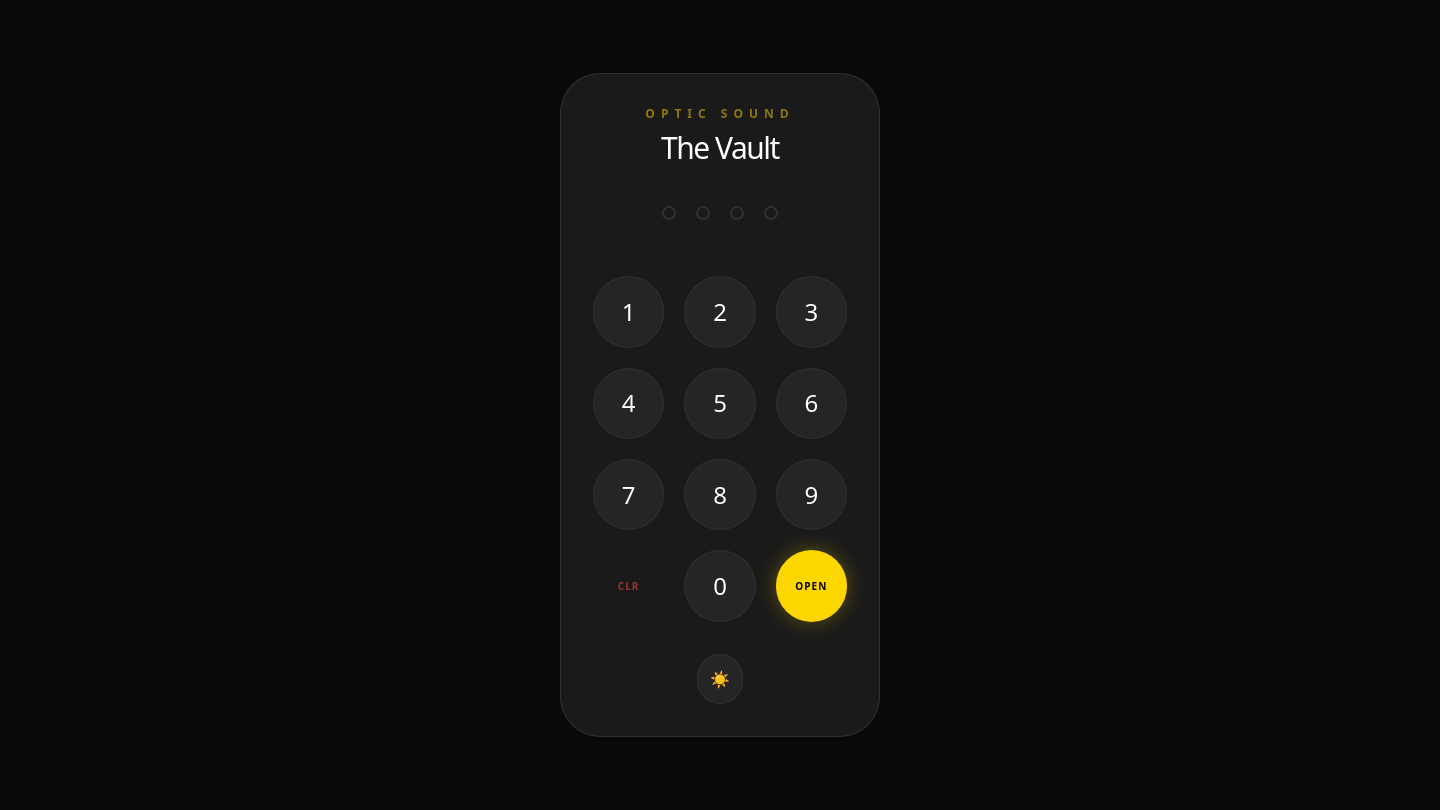
Scenario: App Component › switches to EQ screen
Click the button "1".
click(629, 312)  # box 593,276 -> 664,348
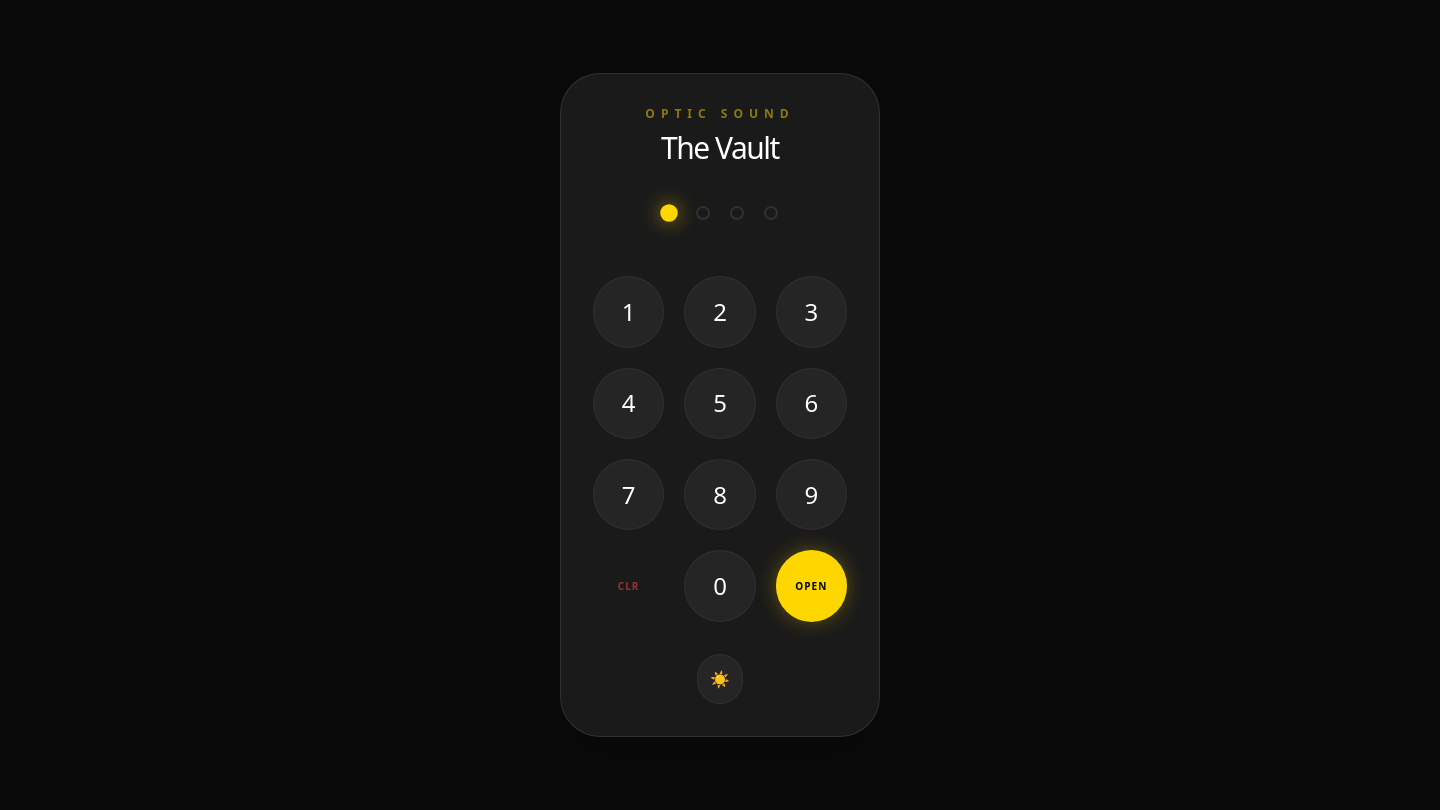
Click the button "Open".
click(811, 586)  # box 776,550 -> 847,622
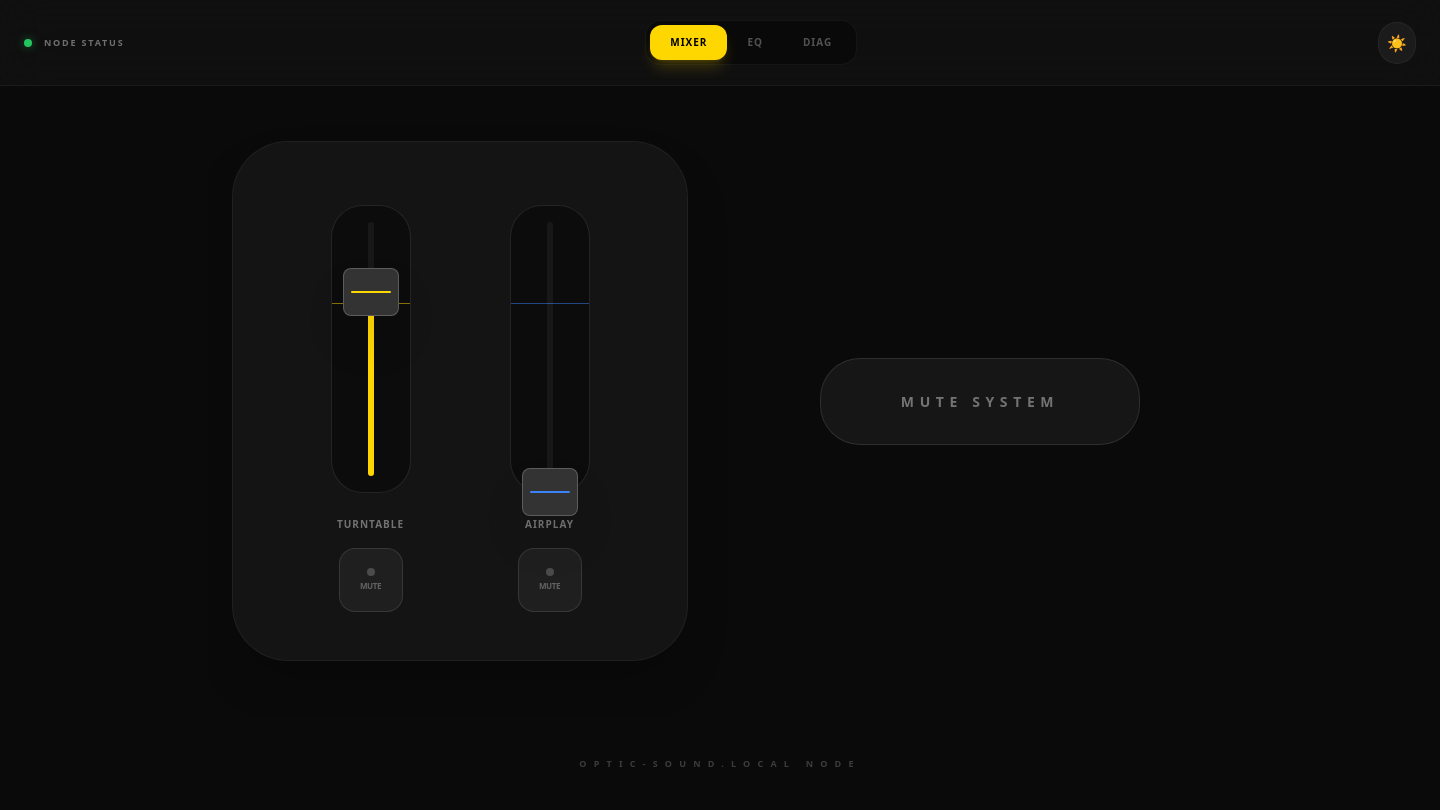
Now the button "EQ" is shown
Click the button "EQ".
click(755, 42)  # box 727,25 -> 783,60
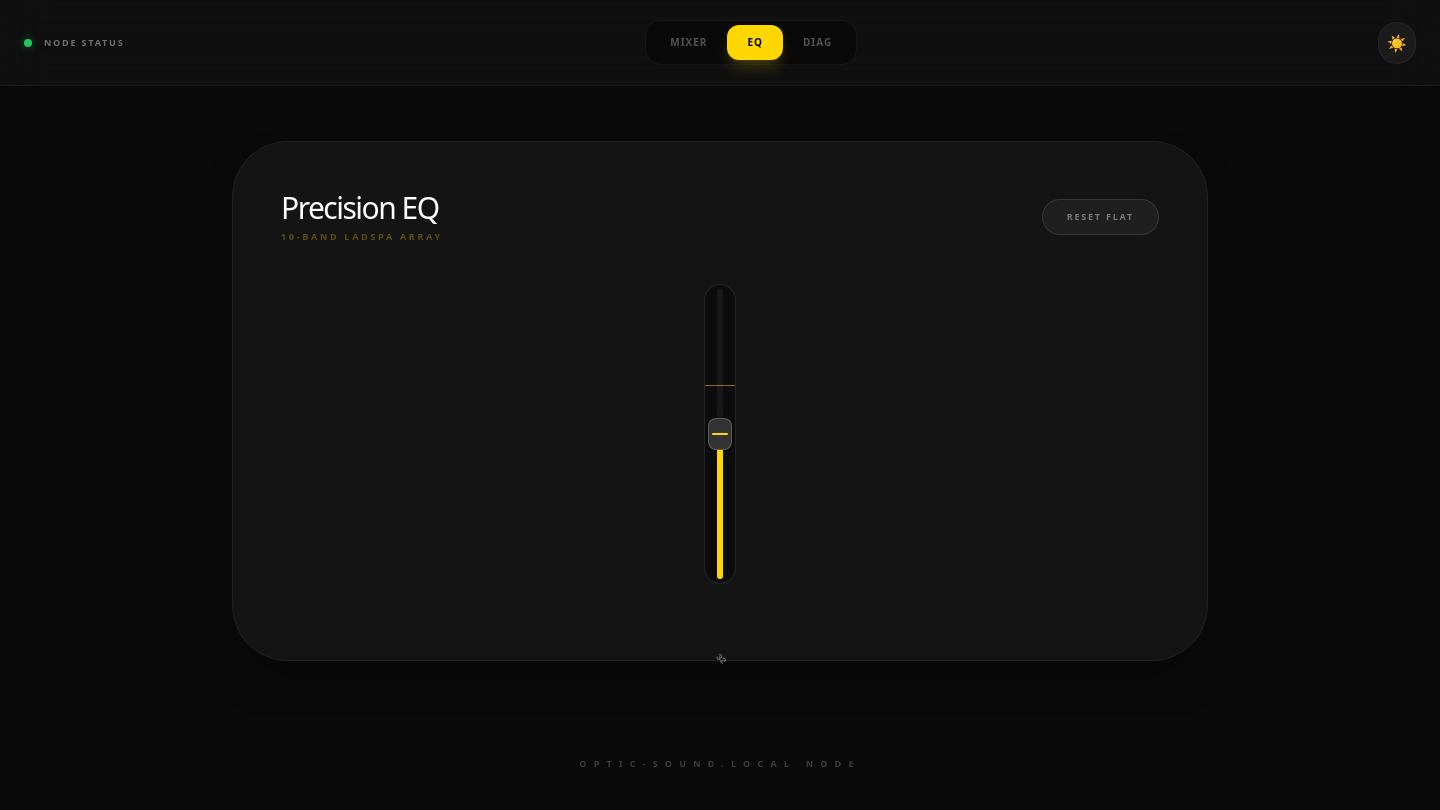
Now the heading "Precision EQ" is shown, box 281,190 -> 443,226
